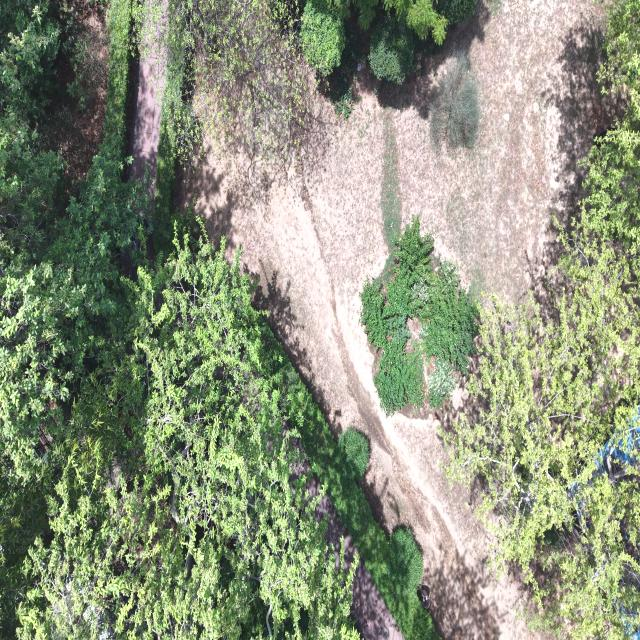DRY_AREA: (188, 0, 612, 639), (40, 1, 108, 182), (126, 0, 167, 219), (127, 0, 167, 198), (127, 2, 164, 196), (127, 48, 164, 196), (350, 558, 403, 639), (318, 496, 355, 557)
PATHWAYS: (128, 22, 164, 195)
VEGETATION_TREE: (0, 0, 434, 639), (0, 2, 433, 639), (16, 236, 356, 639), (443, 1, 639, 639), (445, 0, 639, 639), (0, 2, 140, 635), (448, 232, 639, 639), (156, 0, 448, 167), (290, 374, 438, 639), (136, 0, 316, 178), (360, 220, 476, 414), (173, 1, 311, 162), (1, 0, 108, 188), (299, 0, 448, 116), (153, 3, 219, 236), (581, 0, 639, 258), (33, 0, 108, 183), (152, 15, 191, 254), (582, 99, 639, 259), (360, 280, 423, 415), (303, 0, 374, 119), (410, 262, 476, 374), (316, 14, 363, 119), (429, 52, 478, 151), (598, 0, 639, 93), (300, 0, 346, 74), (380, 117, 401, 272), (368, 11, 413, 82), (381, 0, 449, 44), (382, 0, 446, 44), (389, 526, 422, 589), (338, 428, 369, 477), (426, 356, 455, 406), (435, 0, 476, 24), (353, 0, 377, 29), (486, 0, 504, 17)
